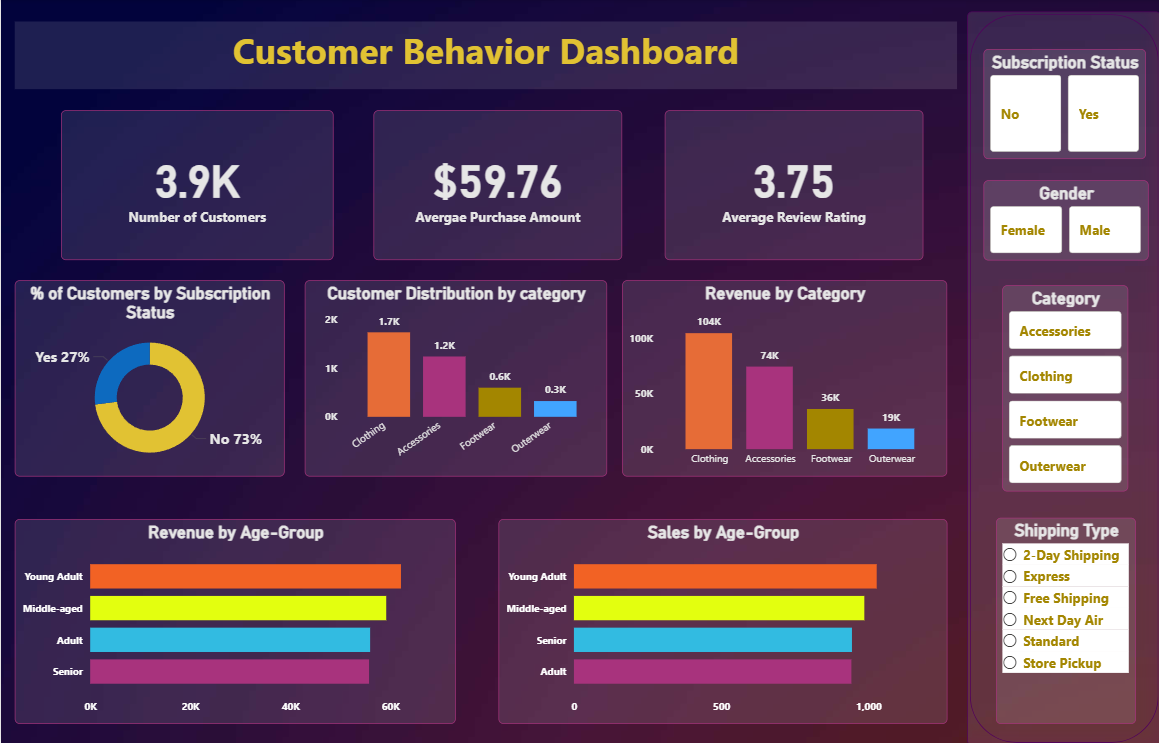

The dashboard page shown, as its layout file describes it:
{"tool":"powerbi","page":{"name":"Page 2","canvas":[1400,900],"ordinal":1},"visuals":[{"type":"shape","box":[1165.7,15.1,233.7,885.2],"z":0},{"type":"clusteredColumnChart","title":"Revenue by Category","fields":{"Category":["customer_behavior.category"],"Y":["Sum(customer_behavior.purchase_amount)"]},"box":[749.5,339.3,392.1,236.8],"z":1000},{"type":"donutChart","title":"% of Customers by Subscription Status","fields":{"Category":["customer_behavior.subscription_status"],"Y":["CountNonNull(customer_behavior.customer_id)"]},"box":[16.6,339.3,325.7,236.8],"z":2000},{"type":"clusteredColumnChart","title":"Customer Distribution by category","fields":{"Category":["customer_behavior.category"],"Y":["CountNonNull(customer_behavior.customer_id)"]},"box":[366.5,339.3,364.9,236.8],"z":3000},{"type":"card","fields":{"Values":["customer_behavior.Number of Customers"]},"box":[72.4,134.2,328.8,181],"z":4000},{"type":"card","fields":{"Values":["customer_behavior.Avergae Purchase Amount"]},"box":[449.4,134.2,300.1,181],"z":5000},{"type":"card","fields":{"Values":["customer_behavior.Average Review Rating"]},"box":[800.8,134.2,312.2,181],"z":6000},{"type":"textbox","box":[16.6,27.1,1137.1,81.4],"z":7000},{"type":"advancedSlicerVisual","title":"Subscription Status","fields":{"Values":["customer_behavior.subscription_status"]},"box":[1185.3,60.3,196,132.7],"z":8000},{"type":"advancedSlicerVisual","title":"Gender","fields":{"Values":["customer_behavior.gender"]},"box":[1185.3,218.7,199.1,96.5],"z":9000},{"type":"advancedSlicerVisual","title":"Category","fields":{"Values":["customer_behavior.category"]},"box":[1207.9,345.3,152.3,248.8],"z":10000},{"type":"listSlicer","title":"Shipping Type","fields":{"Values":["customer_behavior.shipping_type"]},"box":[1200.4,625.8,168.9,248.8],"z":11000},{"type":"clusteredBarChart","title":"Revenue by Age-Group","fields":{"Category":["customer_behavior.age_group"],"Y":["Sum(customer_behavior.purchase_amount)"]},"box":[16.6,627.3,532.3,247.3],"z":12000},{"type":"clusteredBarChart","title":"Sales by Age-Group","fields":{"Category":["customer_behavior.age_group"],"Y":["CountNonNull(customer_behavior.customer_id)"]},"box":[600.2,627.3,541.4,247.3],"z":13000}]}

Visuals, with their boxes in screenshot pixels (x1, y1, x2, y2), scaled from the page's 1400x900 canvas onto the 1159x743 screenshot:
shape: x1=965, y1=12, x2=1158, y2=742
"Revenue by Category" clusteredColumnChart: x1=620, y1=280, x2=945, y2=476
"% of Customers by Subscription Status" donutChart: x1=14, y1=280, x2=283, y2=476
"Customer Distribution by category" clusteredColumnChart: x1=303, y1=280, x2=605, y2=476
card - customer_behavior.Number of Customers: x1=60, y1=111, x2=332, y2=260
card - customer_behavior.Avergae Purchase Amount: x1=372, y1=111, x2=620, y2=260
card - customer_behavior.Average Review Rating: x1=663, y1=111, x2=921, y2=260
textbox: x1=14, y1=22, x2=955, y2=90
"Subscription Status" advancedSlicerVisual: x1=981, y1=50, x2=1144, y2=159
"Gender" advancedSlicerVisual: x1=981, y1=181, x2=1146, y2=260
"Category" advancedSlicerVisual: x1=1000, y1=285, x2=1126, y2=490
"Shipping Type" listSlicer: x1=994, y1=517, x2=1134, y2=722
"Revenue by Age-Group" clusteredBarChart: x1=14, y1=518, x2=454, y2=722
"Sales by Age-Group" clusteredBarChart: x1=497, y1=518, x2=945, y2=722
